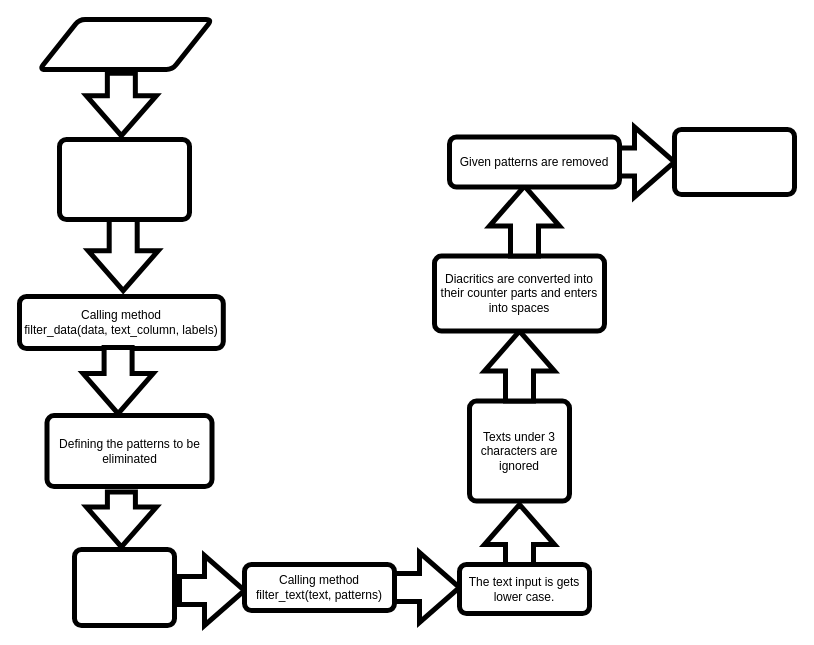
Some shapes in this 814 by 645 pixel diagram are drawn without their labels. The shapes that lost their labels are listed below. From the top down, each one's centre as x and y in pixels, then its label:
point 125,44: Loading the dataset as DataFrame
point 124,179: Creating an instance of DataToolkit object
point 734,161: Curated dataset is returned
point 124,587: Iterating through each row calling the filter
